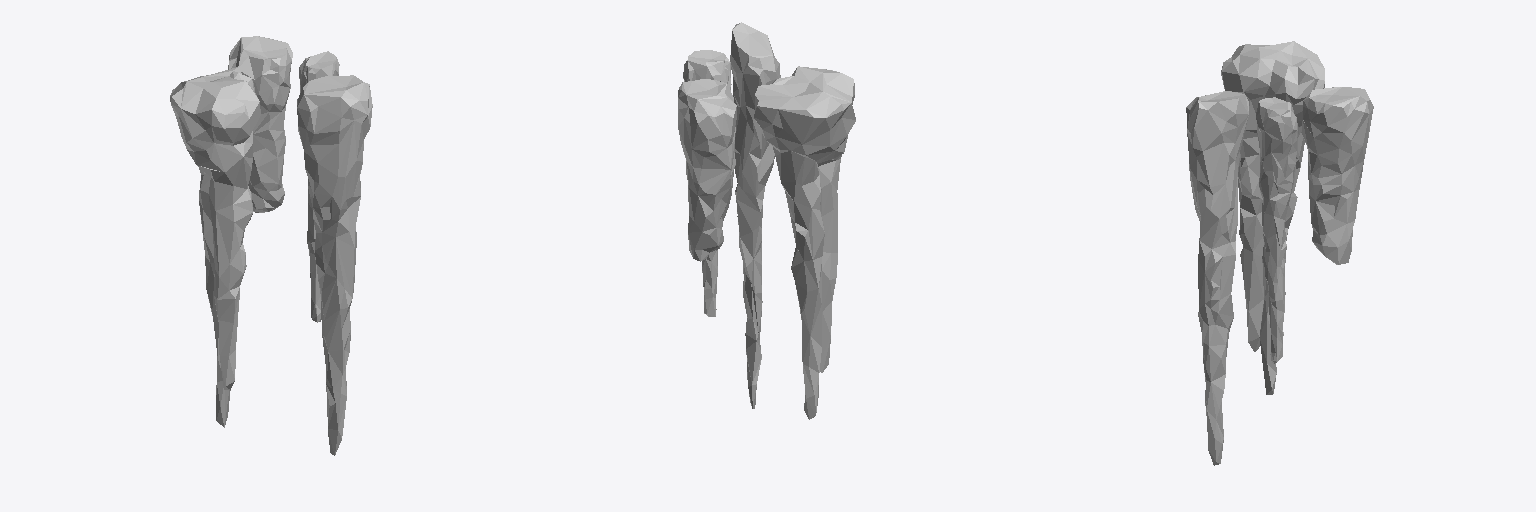
File: Rock Stalactite 2.obj
The picture shows the model from 3 angles: view 1: azimuth 30°, elevation 25°; view 2: azimuth 150°, elevation 25°; view 3: azimuth 270°, elevation 25°; orthographic projection.
Parts seen in each view (by area): view 1: SM_Cave_Rocks_Stalactite_02; view 2: SM_Cave_Rocks_Stalactite_02; view 3: SM_Cave_Rocks_Stalactite_02.
Boxes of the visible parts, x1,y1,x2,y2 form: SM_Cave_Rocks_Stalactite_02: [170, 36, 372, 455]; SM_Cave_Rocks_Stalactite_02: [678, 22, 855, 419]; SM_Cave_Rocks_Stalactite_02: [1186, 41, 1373, 465].
Size of the model in its own units: 230 by 510 by 231.